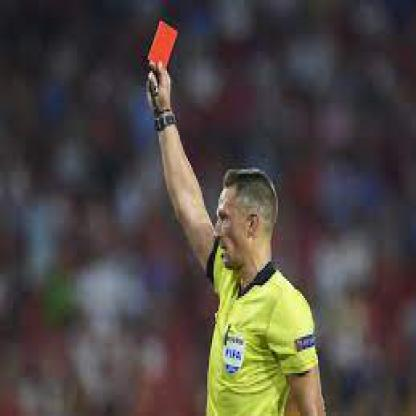foul: (120, 1, 210, 207)
